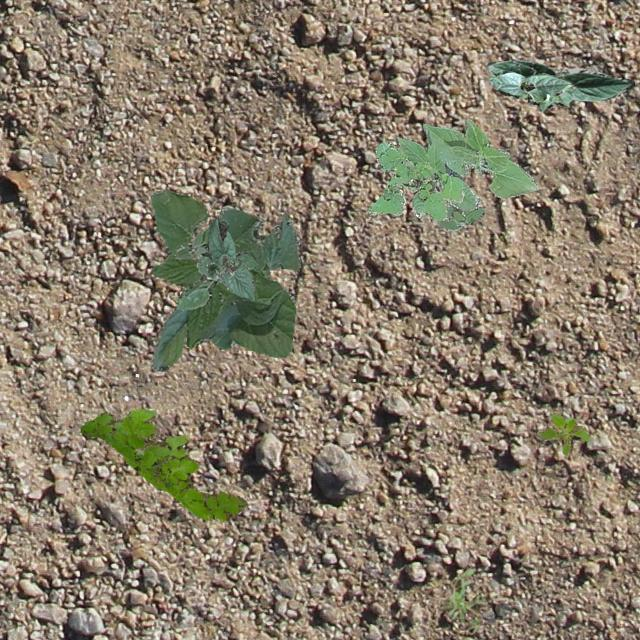crop: (150, 188, 300, 370), (394, 118, 538, 216), (484, 58, 634, 110), (204, 216, 253, 300), (488, 70, 570, 100)
weed: (80, 408, 246, 520), (364, 140, 462, 220), (174, 218, 252, 310), (434, 163, 484, 230), (438, 566, 486, 634), (538, 411, 588, 454)
